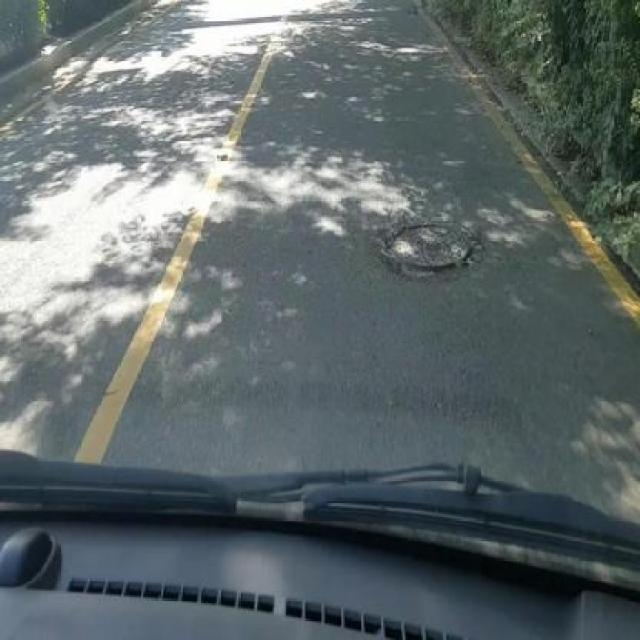Manhole: (376, 224, 487, 281)
